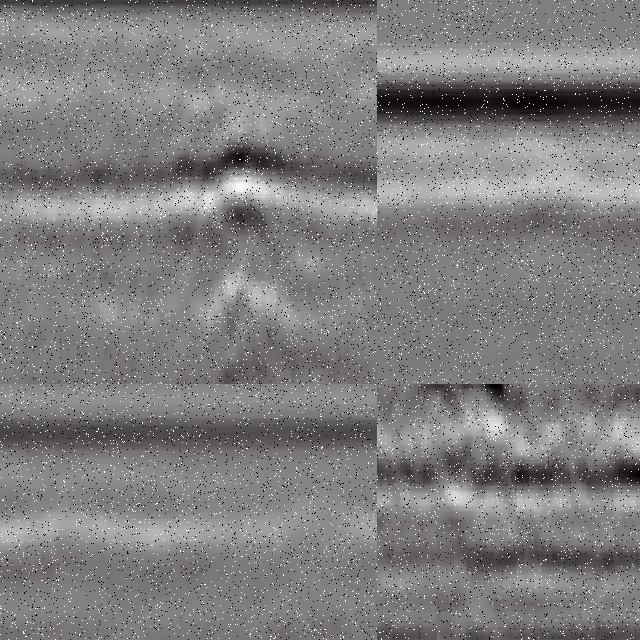loose: (125, 106, 327, 224), (413, 385, 515, 493)
